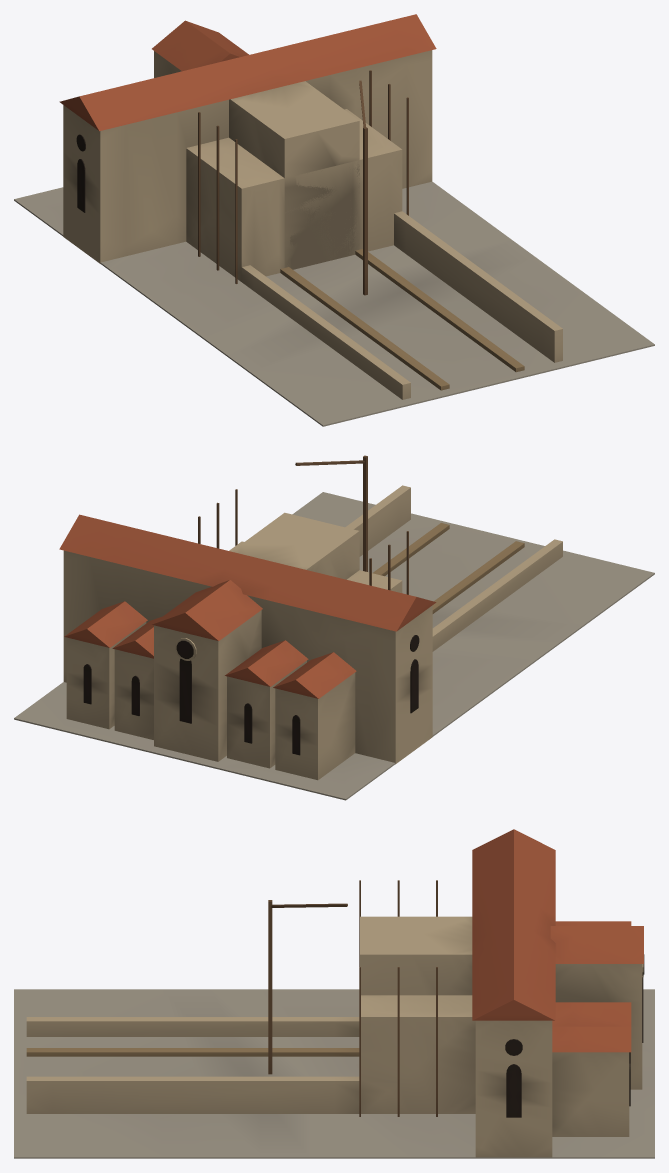
The model's file is santa-maria-novella-1300.glb.
The picture shows the model from 3 angles, top to bottom: view 1: azimuth 30°, elevation 25°; view 2: azimuth 150°, elevation 25°; view 3: azimuth 270°, elevation 25°; orthographic projection. The views are drawn at different scales.
Visible parts, largest first — view 1: p0_walls, p1_roofs, p2_scaffolding; view 2: p0_walls, p1_roofs, p2_scaffolding; view 3: p0_walls, p1_roofs, p2_scaffolding.
Boxes of the visible parts, bbox=[...] form: p0_walls: bbox=[14, 20, 654, 426]; p1_roofs: bbox=[59, 14, 436, 131]; p2_scaffolding: bbox=[198, 70, 408, 295]; p0_walls: bbox=[14, 485, 654, 800]; p1_roofs: bbox=[59, 514, 436, 631]; p2_scaffolding: bbox=[198, 455, 408, 594]; p0_walls: bbox=[14, 916, 654, 1158]; p1_roofs: bbox=[472, 829, 555, 1020]; p2_scaffolding: bbox=[268, 880, 437, 1116].
Bounding box in the file's own units: 63 × 32.23 × 100.
